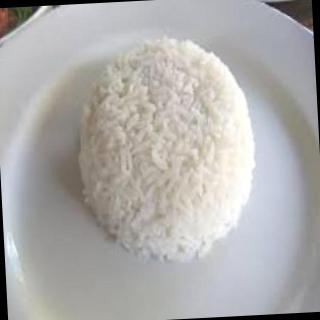Nasi: (69, 30, 265, 271)
